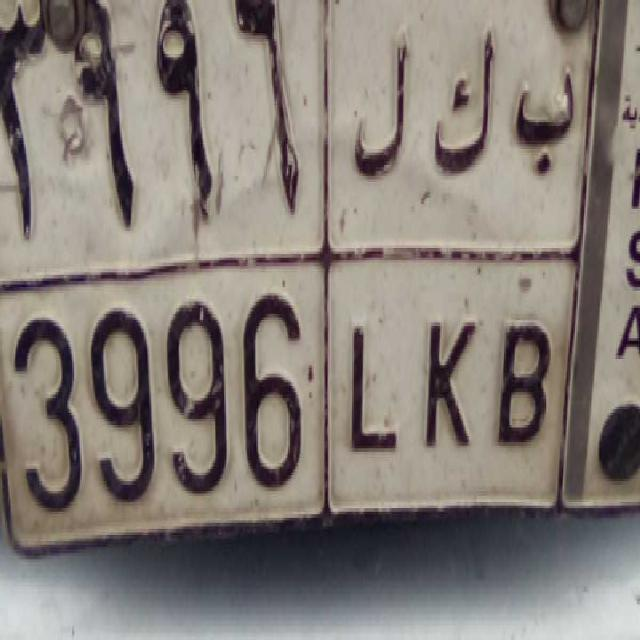license_plate: (0, 252, 574, 544)
